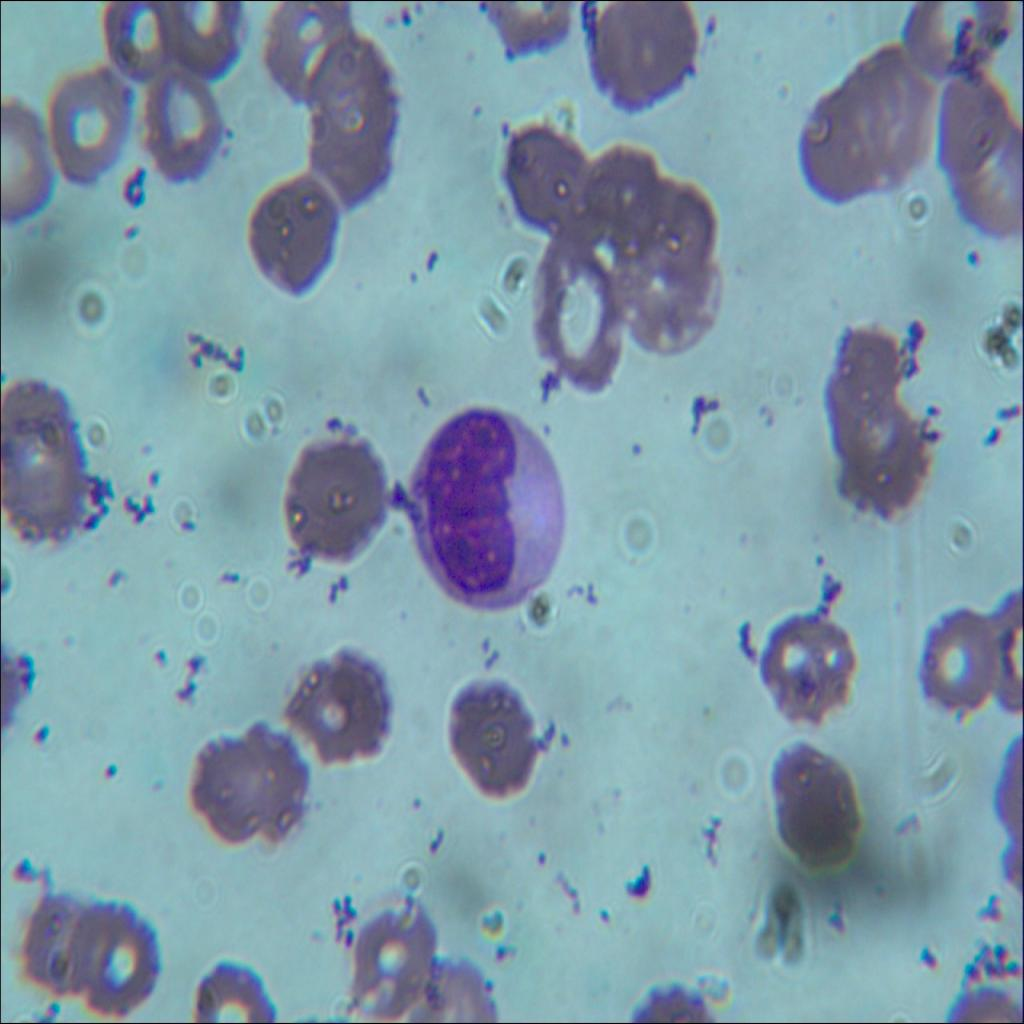Eritrosit: (496, 112, 601, 244), (282, 438, 391, 564), (291, 639, 391, 775), (536, 248, 626, 392), (440, 678, 538, 806), (70, 902, 164, 1023), (771, 735, 856, 868), (595, 1, 696, 112), (616, 244, 713, 358), (348, 890, 434, 1018), (246, 172, 334, 294), (855, 46, 934, 181), (46, 62, 132, 181), (583, 138, 661, 266), (0, 429, 81, 551), (798, 86, 880, 200), (301, 108, 393, 209), (143, 72, 222, 189), (823, 319, 894, 448), (918, 604, 996, 716), (0, 378, 79, 488), (762, 616, 852, 712), (898, 0, 1016, 73), (244, 718, 310, 848), (264, 1, 350, 99), (18, 884, 94, 992), (310, 38, 394, 132), (200, 731, 270, 838), (639, 182, 716, 278), (858, 415, 931, 514), (958, 126, 1024, 235), (0, 91, 50, 234), (938, 78, 1002, 172), (166, 0, 238, 78), (104, 2, 176, 78)
Monosit: (406, 408, 566, 616)
Platelet: (116, 212, 146, 252), (555, 718, 578, 769), (30, 721, 62, 755), (403, 782, 431, 814), (526, 844, 552, 878), (622, 426, 644, 464), (962, 242, 983, 281), (402, 254, 424, 291), (98, 758, 123, 784), (491, 941, 513, 964)
